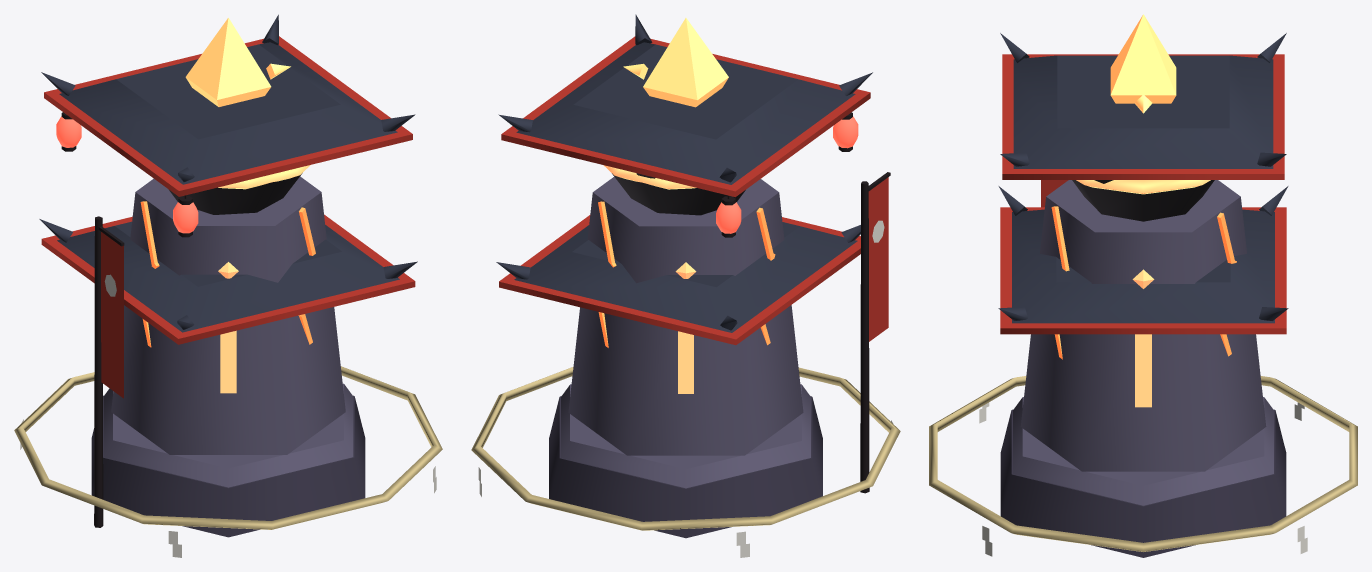
The model's file is tower_element_elementFire.glb.
3 views of the same model, side by side, from view 1: azimuth 30°, elevation 25°; view 2: azimuth 150°, elevation 25°; view 3: azimuth 270°, elevation 25° (orthographic). The views are drawn at different scales.
Parts seen in each view (by area): view 1: pillar, deco_eave_0_roof, deco_eave_1_roof, base, base_top, deco_eave_0_rim, deco_shimenawa_rope, deco_eave_1_rim, crystal, deco_nobori_cloth, deco_nobori_pole, fire_bowl (+8 smaller); view 2: pillar, deco_eave_0_roof, deco_eave_1_roof, base, base_top, deco_shimenawa_rope, deco_eave_0_rim, deco_eave_1_rim, crystal, deco_nobori_cloth, deco_nobori_pole, fire_bowl (+8 smaller); view 3: pillar, deco_eave_0_roof, deco_eave_1_roof, base, base_top, deco_shimenawa_rope, deco_eave_1_rim, deco_eave_0_rim, crystal, fire_bowl, fire_bowl_rim, rune_0 (+4 smaller).
Part boxes in pixels (x1,y1,x2,y2): pillar: (111, 176, 345, 454); deco_eave_0_roof: (59, 42, 397, 184); deco_eave_1_roof: (57, 221, 399, 332); base: (91, 395, 365, 537); base_top: (103, 383, 353, 487); deco_eave_0_rim: (44, 36, 412, 196); deco_shimenawa_rope: (14, 366, 442, 529); deco_eave_1_rim: (41, 214, 415, 344); crystal: (185, 17, 271, 106); deco_nobori_cloth: (101, 232, 123, 398); deco_nobori_pole: (94, 216, 103, 527); fire_bowl: (169, 173, 302, 214); pillar: (568, 177, 803, 455); deco_eave_0_roof: (516, 42, 855, 184); deco_eave_1_roof: (514, 222, 857, 332); base: (549, 396, 822, 538); base_top: (561, 384, 810, 488); deco_shimenawa_rope: (471, 366, 900, 530); deco_eave_0_rim: (501, 36, 870, 197); deco_eave_1_rim: (499, 215, 860, 345); crystal: (643, 18, 728, 107); deco_nobori_cloth: (868, 177, 888, 341); deco_nobori_pole: (860, 181, 869, 493); fire_bowl: (612, 173, 745, 215); pillar: (1020, 180, 1266, 471); deco_eave_0_roof: (1013, 55, 1273, 168); deco_eave_1_roof: (1012, 209, 1274, 323); base: (1000, 409, 1286, 557); base_top: (1013, 397, 1273, 505); deco_shimenawa_rope: (929, 376, 1357, 551); deco_eave_1_rim: (1000, 207, 1286, 334); deco_eave_0_rim: (1002, 54, 1284, 179); crystal: (1110, 14, 1176, 103); fire_bowl: (1072, 180, 1214, 221); fire_bowl_rim: (1076, 180, 1210, 194); rune_0: (1135, 334, 1151, 407).
Size of the model in its own units: 0.5326 by 0.618 by 0.5066.
